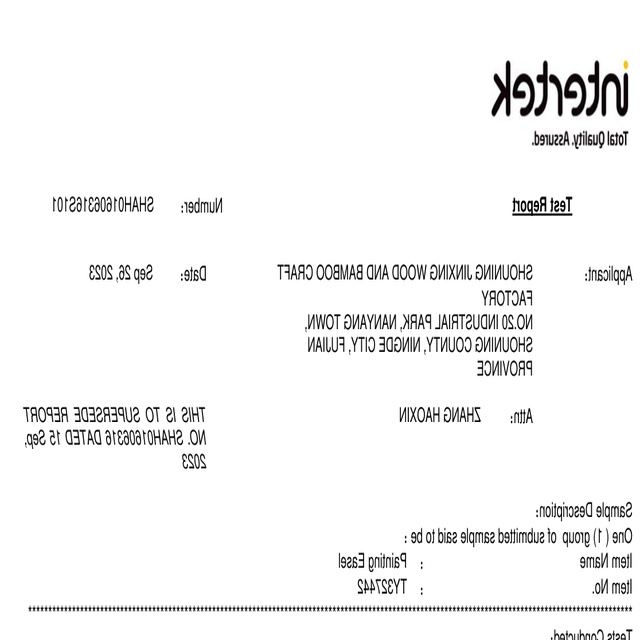intertek: (485, 54, 638, 120)
